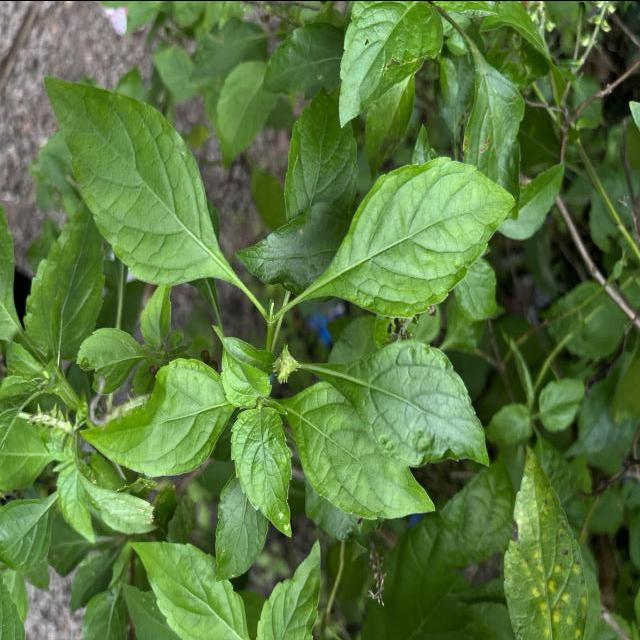Ocimum gratissimum: (42, 71, 258, 303), (278, 152, 519, 321), (304, 334, 492, 471), (280, 378, 440, 524), (76, 354, 238, 478), (336, 0, 448, 131), (127, 537, 253, 640), (228, 405, 294, 539)
